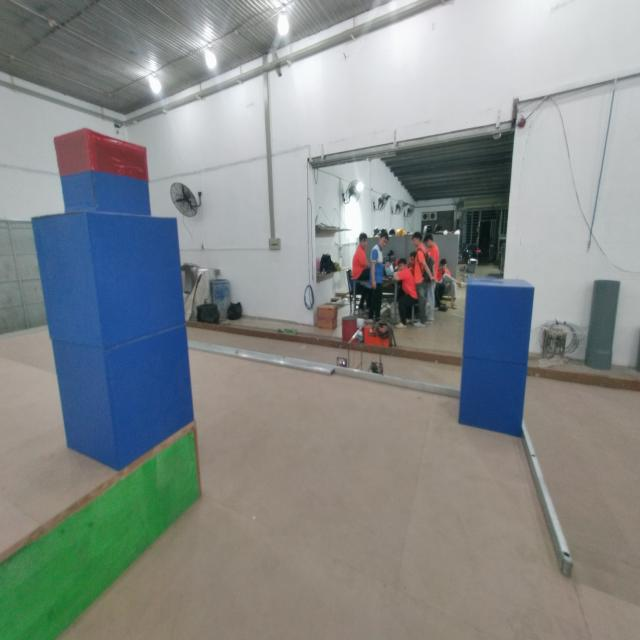earth_block: (26, 215, 190, 351), (461, 276, 539, 366), (455, 353, 534, 439)
sky_block: (47, 126, 154, 214)
